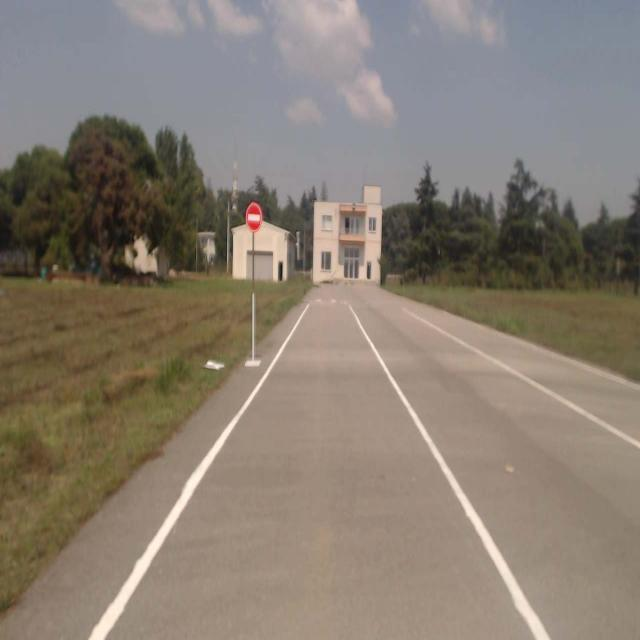girisyok: (248, 203, 262, 233)
